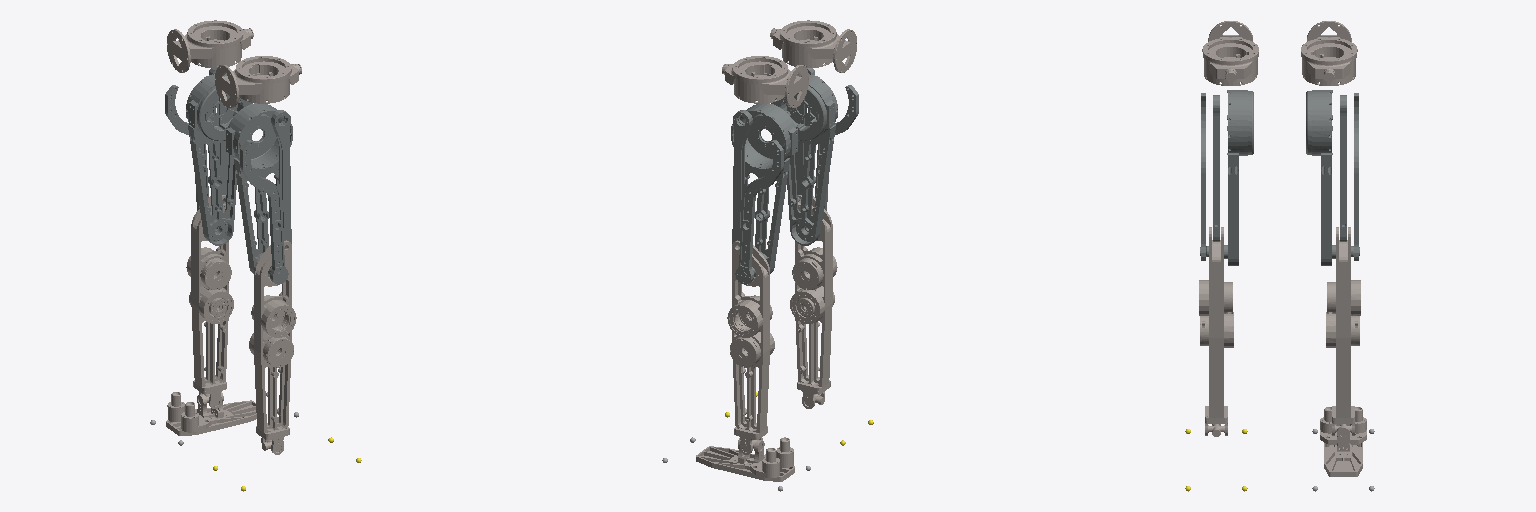
robot.urdf — biped_s4:
<?xml version="1.0" encoding="utf-8"?>
<!-- This URDF was automatically created by SolidWorks to URDF Exporter! Originally created by
Stephen Brawner ([email redacted]) 
     Commit Version: 1.6.0-4-g7f85cfe  Build Version: 1.6.7995.38578
     For more information, please see http://wiki.ros.org/sw_urdf_exporter -->
<robot name="biped_s4">
  <mujoco>
    <compiler meshdir="../meshes/" balanceinertia="true" discardvisual="false"/>
  </mujoco>
  <link name="dummy_link">
  </link>
  <link name="base_link">
    <inertial>
      <origin 
        xyz="0.00383143 0.0 0.18350901"
      	rpy="0 0 0" />
      <mass 
        value="26.40313"  />
      <inertia ixx="0.95851611" ixy="0.00026968" ixz="0.06381351" iyy="0.83635568" iyz="0.00069789" izz="0.29474019" />
    </inertial>
    <visual>
      <origin 
        xyz="0 0 0"
        rpy="0 0 0" />
      <geometry>
        <mesh filename="package://kuavo_assets/models/biped_s40/meshes/torso.STL" />
      </geometry>
      <material 
        name="">
        <color 
          rgba="1 1 1 1" />
      </material>
    </visual>
  </link>
  <joint name="dummy_to_base_link" type="fixed">
    <parent link="dummy_link"/>
    <child link="base_link"/>
    <origin rpy="0 0 0" xyz="0 0 0"/>
  </joint>

  <link name="leg_l1_link">
    <inertial>
      <origin 
        xyz="0.06614234 -0.00000119 -0.00862806"
        rpy="0 0 0" />
      <mass 
        value="1.53800733"
      />
      <inertia 
        ixx="0.00189451"
        ixy="-0.00000100"
        ixz="-0.00010566"
        iyy="0.00282649"
        iyz="-0.00000006"
        izz="0.00366404" />
    </inertial>
    <visual>
      <origin 
        xyz="0 0 0"
        rpy="0 0 0" />
      <geometry>
        <mesh filename="package://kuavo_assets/models/biped_s40/meshes/l_leg_roll.STL" />
      </geometry>
      <material 
        name="">
        <color 
          rgba="0.6902 0.65882 0.63922 1" />
      </material>
    </visual>
  </link>
  <joint 
    name="leg_l1_joint"
    type="revolute">
    <origin 
      xyz="-0.139 0.088087 -0.065549"
      rpy="0 0 0" />
    <parent 
      link="base_link" />
    <child 
      link="leg_l1_link" />
    <axis 
      xyz="1 0 0" />
    <limit
      lower="-0.31"
      upper="0.66"
      effort="85"
      velocity="14" />
  </joint>

  <link 
    name="leg_l2_link">
    <inertial>
      <origin 
        xyz="0.00000000 0.04610400 -0.13256100"
        rpy="0 0 0" />
      <mass 
        value="1.60096700"/>
      <inertia 
        ixx="0.00698359"
        ixy="0.00000237"
        ixz="-0.00000315"
        iyy="0.00460736"
        iyz="-0.00105143"
        izz="0.00482586" />
    </inertial>
    <visual>
      <origin 
        xyz="0 0 0"
        rpy="0 0 0" />
      <geometry>
        <mesh filename="package://kuavo_assets/models/biped_s40/meshes/l_leg_yaw.STL" />
      </geometry>
      <material 
        name="">
        <color rgba="0.65098 0.61961 0.58824 1" />
      </material>
    </visual>
  </link>
  <joint name="leg_l2_joint"
    type="revolute">
    <origin 
      xyz="0.1365 -0.0010866 -0.033901"
      rpy="0 0 0" />
    <parent 
      link="leg_l1_link" />
    <child 
      link="leg_l2_link" />
    <axis 
      xyz="0 0 1" />
    <limit
      lower="-0.52"
      upper="1.04"
      effort="60"
      velocity="14" />
  </joint>

  <link name="leg_l3_link">
    <inertial>
      <origin 
        xyz="-0.00644903 -0.09813560 -0.05357606"
        rpy="0 0 0" />
      <mass 
        value="2.46657100"/>
      <inertia 
        ixx="0.02261778"
        ixy="-0.00007906"
        ixz="-0.00029350"
        iyy="0.02315672"
        iyz="-0.00182962"
        izz="0.00415881" />
    </inertial>
    <visual>
      <origin 
        xyz="0 0 0"
        rpy="0 0 0" />
      <geometry>
        <mesh 
          filename="package://kuavo_assets/models/biped_s40/meshes/l_leg_pitch.STL" />
      </geometry>
      <material 
        name="">
        <color 
          rgba="0.52941 0.54902 0.54902 1" />
      </material>
    </visual>
  </link>
  <joint 
    name="leg_l3_joint"
    type="revolute">
    <origin 
      xyz="0 0.094 -0.09"
      rpy="0 0 0" />
    <parent 
      link="leg_l2_link" />
    <child 
      link="leg_l3_link" />
    <axis 
      xyz="0 1 0" />
    <limit
      lower="-1.83"
      upper="1.04"
      effort="85"
      velocity="14" />
  </joint>

  <link name="leg_l4_link">
    <inertial>
      <origin 
        xyz="0.00080045 -0.00004225 -0.12049699"
        rpy="0 0 0" />
      <mass 
        value="1.62911554" />
      <inertia 
        ixx="0.01343597"
        ixy="-0.00000234"
        ixz="0.00020391"
        iyy="0.01359234"
        iyz="0.00018311"
        izz="0.00092149" />
    </inertial>
    <visual>
      <origin 
        xyz="0 0 0"
        rpy="0 0 0" />
      <geometry>
        <mesh 
          filename="package://kuavo_assets/models/biped_s40/meshes/l_knee.STL" />
      </geometry>
      <material 
        name="">
        <color rgba="0.68627 0.65882 0.63922 1" />
      </material>
    </visual>
  </link>
  <joint name="leg_l4_joint"
    type="revolute">
    <origin 
      xyz="0.004136 -0.06635 -0.24997"
      rpy="0 0 0" />
    <parent 
      link="leg_l3_link" />
    <child 
      link="leg_l4_link" />
    <axis 
      xyz="0 1 0" />
    <limit
      lower="-0.0"
      upper="2.18"
      effort="85"
      velocity="14" />
  </joint>

  <link name="leg_l5_link">
    <inertial>
      <origin 
        xyz="0.00000000 -0.02099982 0"
        rpy="0 0 0" />
      <mass 
        value="0.05444454" />
      <inertia 
        ixx="0.00000411"
        ixy="0.00000000"
        ixz="0.00000000"
        iyy="0.00000411"
        iyz="0.00000000"
        izz="0.00000728" />
    </inertial>
    <visual>
      <origin 
        xyz="0 0 0"
        rpy="0 0 0" />
      <geometry>
        <mesh filename="package://kuavo_assets/models/biped_s40/meshes/l_foot_pitch.STL" />
      </geometry>
      <material name="">
        <color rgba="0.6902 0.65882 0.63922 1" />
      </material>
    </visual>
  </link>
  <joint 
    name="leg_l5_joint"
    type="revolute">
    <origin 
      xyz="0 -0.0022 -0.346"
      rpy="0 0 0" />
    <parent 
      link="leg_l4_link" />
    <child 
      link="leg_l5_link" />
    <axis 
      xyz="0 1 0" />
    <limit
      lower="-0.61"
      upper="0.52"
      effort="36"
      velocity="14" />
  </joint>

  <link name="leg_l6_link">
    <inertial>
      <origin 
        xyz="-0.03594832 0.00000978 -0.02713029"
        rpy="0 0 0" />
      <mass 
        value="0.46707519" />
      <inertia 
        ixx="0.00040711"
        ixy="0.00000016"
        ixz="-0.00023147"
        iyy="0.00127525"
        iyz="-0.00000006"
        izz="0.00135360" />
    </inertial>
    <visual>
      <origin 
        xyz="0 0 0"
        rpy="0 0 0" />
      <geometry>
        <mesh filename="package://kuavo_assets/models/biped_s40/meshes/l_foot_roll.STL" />
      </geometry>
      <material 
        name="">
        <color 
          rgba="0.6902 0.65882 0.63922 1" />
      </material>
    </visual>
    <visual>
      <origin rpy="0 0 0" xyz="-0.09 0.05 -0.0465" />
      <geometry>
        <sphere radius="0.005" />
      </geometry>
    </visual>
    <collision>
      <origin rpy="0 0 0" xyz="-0.09 0.05 -0.0465" />
      <geometry>
        <sphere radius="0.005" />
      </geometry>
    </collision>
    <visual>
      <origin rpy="0 0 0" xyz="-0.09 -0.05 -0.0465" />
      <geometry>
        <sphere radius="0.005" />
      </geometry>
    </visual>
    <collision>
      <origin rpy="0 0 0" xyz="-0.09 -0.05 -0.0465" />
      <geometry>
        <sphere radius="0.005" />
      </geometry>
    </collision>
    <visual>
      <origin rpy="0 0 0" xyz="0.15 0.05 -0.0465" />
      <geometry>
        <sphere radius="0.005" />
      </geometry>
    </visual>
    <collision>
      <origin rpy="0 0 0" xyz="0.15 0.05 -0.0465" />
      <geometry>
        <sphere radius="0.005" />
      </geometry>
    </collision>
    <visual>
      <origin rpy="0 0 0" xyz="0.15 -0.05 -0.0465" />
      <geometry>
        <sphere radius="0.005" />
      </geometry>
    </visual>
    <collision>
      <origin rpy="0 0 0" xyz="0.15 -0.05 -0.0465" />
      <geometry>
        <sphere radius="0.005" />
      </geometry>
    </collision>
  </link>
  <joint 
    name="leg_l6_joint"
    type="revolute">
    <origin 
      xyz="0 0 0"
      rpy="0 0 0" />
    <parent 
      link="leg_l5_link" />
    <child 
      link="leg_l6_link" />
    <axis 
      xyz="1 0 0" />
    <limit
      lower="-0.61"
      upper="0.52"
      effort="36"
      velocity="14" />
  </joint>

  <link 
    name="ll_foot_toe">
    <collision>
      <origin 
        rpy="0 0 0"
        xyz="0 0 0"/>
      <geometry>
        <sphere radius="0.005"/>
      </geometry>
    </collision>
  </link>
  <joint name="ll_foot_toe_joint"
    type="fixed">
    <origin 
      xyz="0.15 0.05 -0.0465"
      rpy="0 0 0" />
    <parent 
      link="leg_l6_link" />
    <child 
      link="ll_foot_toe" />
  </joint>
  <link name="ll_foot_heel">
    <collision>
      <origin 
        rpy="0 0 0"
        xyz="0 0 0"/>
      <geometry>
        <sphere radius="0.005"/>
      </geometry>
    </collision>
  </link>
  <joint 
    name="ll_foot_heel_joint"
    type="fixed">
    <origin 
      xyz="-0.09 0.05 -0.0465"
      rpy="0 0 0" />
    <parent link="leg_l6_link" />
    <child link="ll_foot_heel" />
  </joint>

  <link name="lr_foot_toe">
    <collision>
      <origin 
        rpy="0 0 0"
        xyz="0 0 0"/>
      <geometry>
        <sphere radius="0.005"/>
      </geometry>
    </collision>
  </link>
  <joint 
    name="lr_foot_toe_joint"
    type="fixed">
    <origin 
      xyz="0.15 -0.05 -0.0465"
      rpy="0 0 0" />
    <parent 
      link="leg_l6_link" />
    <child 
      link="lr_foot_toe" />
  </joint>
  <link 
    name="lr_foot_heel">
    <collision>
      <origin 
        rpy="0 0 0"
        xyz="0 0 0"/>
      <geometry>
        <sphere radius="0.005"/>
      </geometry>
    </collision>
  </link>
  <joint 
    name="lr_foot_heel_joint"
    type="fixed">
    <origin 
      xyz="-0.09 -0.05 -0.0465"
      rpy="0 0 0" />
    <parent 
      link="leg_l6_link" />
    <child 
      link="lr_foot_heel" />
  </joint>
  <link name="l_foot_toe">
    <collision>
      <origin 
        rpy="0 0 0"
        xyz="0 0 0"/>
      <geometry>
        <sphere radius="0.005"/>
      </geometry>
    </collision>
  </link>
  <joint 
    name="l_foot_toe_joint"
    type="fixed">
    <origin 
      xyz="0.15 0.0 -0.0465"
      rpy="0 0 0" />
    <parent 
      link="leg_l6_link" />
    <child 
      link="l_foot_toe" />
  </joint>
  <link name="l_foot_heel">
    <collision>
      <origin 
        rpy="0 0 0"
        xyz="0 0 0"/>
      <geometry>
        <sphere radius="0.005"/>
      </geometry>
    </collision>
  </link>
  <joint 
    name="l_foot_heel_joint"
    type="fixed">
    <origin xyz="-0.09 0.0 -0.0465"
      rpy="0 0 0" />
    <parent 
      link="leg_l6_link" />
    <child 
      link="l_foot_heel" />
  </joint>

  <link 
    name="leg_r1_link">
    <inertial>
      <origin 
        xyz="0.06614233 0.00000119 -0.00862806"
        rpy="0 0 0" />
      <mass 
        value="1.53800714" />
      <inertia 
        ixx="0.00189451"
        ixy="0.00000100"
        ixz="-0.00010566"
        iyy="0.00282648"
        iyz="0.00000006"
        izz="0.00366404" />
    </inertial>
    <visual>
      <origin 
        xyz="0 0 0"
        rpy="0 0 0" />
      <geometry>
        <mesh filename="package://kuavo_assets/models/biped_s40/meshes/r_leg_roll.STL" />
      </geometry>
      <material 
        name="">
        <color rgba="0.6902 0.65882 0.63922 1" />
      </material>
    </visual>
  </link>
  <joint name="leg_r1_joint"
    type="revolute">
    <origin 
      xyz="-0.139 -0.088087 -0.065549"
      rpy="0 0 0" />
    <parent 
      link="base_link" />
    <child 
      link="leg_r1_link" />
    <axis 
      xyz="1 0 0" />
    <limit
      lower="-0.6629"
      upper="0.314"
      effort="85"
      velocity="14" />
  </joint>

  <link name="leg_r2_link">
    <inertial>
      <origin 
        xyz="0.00004661 -0.04610359 -0.13257364"
        rpy="0 0 0" />
      <mass 
        value="1.60096695" />
      <inertia 
        ixx="0.00520439"
        ixy="-0.00000302"
        ixz="-0.00000372"
        iyy="0.00397740"
        iyz="0.00063198"
        izz="0.00391648" />
    </inertial>
    <visual>
      <origin 
        xyz="0 0 0"
        rpy="0 0 0" />
      <geometry>
        <mesh filename="package://kuavo_assets/models/biped_s40/meshes/r_leg_yaw.STL" />
      </geometry>
      <material 
        name="">
        <color 
          rgba="0.650980392156863 0.619607843137255 0.588235294117647 1" />
      </material>
    </visual>
  </link>
  <joint 
    name="leg_r2_joint"
    type="revolute">
    <origin 
      xyz="0.1365 0.0010866 -0.033901"
      rpy="0 0 0" />
    <parent 
      link="leg_r1_link" />
    <child 
      link="leg_r2_link" />
    <axis 
      xyz="0 0 1" />
    <limit
      lower="-1.04"
      upper="0.52"
      effort="60"
      velocity="14" />
  </joint>

  <link name="leg_r3_link">
    <inertial>
      <origin 
        xyz="-0.00644903 0.09813560 -0.05357606"
        rpy="0 0 0" />
      <mass 
        value="2.46657141"/>
      <inertia 
        ixx="0.02254838"
        ixy="0.00023457"
        ixz="0.00013808"
        iyy="0.02319666"
        iyz="0.00259984"
        izz="0.00432904" />
    </inertial>
    <visual>
      <origin 
        xyz="0 0 0"
        rpy="0 0 0" />
      <geometry>
        <mesh filename="package://kuavo_assets/models/biped_s40/meshes/r_leg_pitch.STL" />
      </geometry>
      <material 
        name="">
        <color 
          rgba="0.529411764705882 0.549019607843137 0.549019607843137 1" />
      </material>
    </visual>
  </link>
  <joint name="leg_r3_joint"
    type="revolute">
    <origin 
      xyz="0 -0.094 -0.09"
      rpy="0 0 0" />
    <parent 
      link="leg_r2_link" />
    <child 
      link="leg_r3_link" />
    <axis xyz="0 1 0" />
    <limit
      lower="-1.83"
      upper="1.04"
      effort="85"
      velocity="14" />
  </joint>

  <link name="leg_r4_link">
    <inertial>
      <origin 
        xyz="0.00080045 0.00004225 -0.12049699"
        rpy="0 0 0" />
      <mass 
        value="1.62911540" />
      <inertia 
        ixx="0.01343597"
        ixy="0.00000234"
        ixz="0.00020391"
        iyy="0.01359234"
        iyz="-0.00018311"
        izz="0.00092149" />
    </inertial>
    <visual>
      <origin 
        xyz="0 0 0"
        rpy="0 0 0" />
      <geometry>
        <mesh 
          filename="package://kuavo_assets/models/biped_s40/meshes/r_knee.STL" />
      </geometry>
      <material 
        name="">
        <color 
          rgba="0.686274509803922 0.658823529411765 0.63921568627451 1" />
      </material>
    </visual>
  </link>
  <joint 
    name="leg_r4_joint"
    type="revolute">
    <origin 
      xyz="0.004136 0.06635 -0.24997"
      rpy="0 0 0" />
    <parent 
      link="leg_r3_link" />
    <child 
      link="leg_r4_link" />
    <axis 
      xyz="0 1 0" />
    <limit
      lower="-0.0"
      upper="2.18"
      effort="85"
      velocity="14" />
  </joint>

  <link name="leg_r5_link">
    <inertial>
      <origin 
        xyz="0 0.02100018 0"
        rpy="0 0 0" />
      <mass 
        value="0.05444454"/>
      <inertia 
        ixx="0.00000411"
        ixy="0"
        ixz="0"
        iyy="0.00000411"
        iyz="0"
        izz="0.00000728"/>
    </inertial>
    <visual>
      <origin 
        xyz="0 0 0"
        rpy="0 0 0" />
      <geometry>
        <mesh 
          filename="package://kuavo_assets/models/biped_s40/meshes/r_foot_pitch.STL" />
      </geometry>
      <material 
        name="">
        <color rgba="0.690196078431373 0.658823529411765 0.63921568627451 1" />
      </material>
    </visual>
  </link>
  <joint name="leg_r5_joint"
    type="revolute">
    <origin 
      xyz="0 0.0022 -0.346"
      rpy="0 0 0" />
    <parent 
      link="leg_r4_link" />
    <child 
      link="leg_r5_link" />
    <axis 
      xyz="0 1 0" />
    <limit
      lower="-0.61"
      upper="0.52"
      effort="36"
      velocity="14" />
  </joint>

  <link name="leg_r6_link">
    <inertial>
      <origin 
        xyz="-0.03594837 -0.00000972 -0.02713025"
        rpy="0 0 0" />
      <mass 
        value="0.46707428" />
      <inertia 
        ixx="0.00040710"
        ixy="-0.00000016"
        ixz="-0.00023147"
        iyy="0.00127525"
        iyz="0.00000006"
        izz="0.00135359" />
    </inertial>
    <visual>
      <origin 
        xyz="0 0 0"
        rpy="0 0 0" />
      <geometry>
        <mesh 
          filename="package://kuavo_assets/models/biped_s40/meshes/r_foot_roll.STL" />
      </geometry>
      <material 
        name="">
        <color 
          rgba="0.690196078431373 0.658823529411765 0.63921568627451 1" />
      </material>
    </visual>
    <visual>
      <origin rpy="0 0 0" xyz="-0.09 0.05 -0.0465" />
      <geometry>
        <sphere radius="0.005" />
      </geometry>
    </visual>
    <collision>
      <origin rpy="0 0 0" xyz="-0.09 0.05 -0.0465" />
      <geometry>
        <sphere radius="0.005" />
      </geometry>
    </collision>
    <visual>
      <origin rpy="0 0 0" xyz="-0.09 -0.05 -0.0465" />
      <geometry>
        <sphere radius="0.005" />
      </geometry>
    </visual>
    <collision>
      <origin rpy="0 0 0" xyz="-0.09 -0.05 -0.0465" />
      <geometry>
        <sphere radius="0.005" />
      </geometry>
    </collision>

    <visual>
      <origin rpy="0 0 0" xyz="0.15 0.05 -0.0465" />
      <geometry>
        <sphere radius="0.005" />
      </geometry>
    </visual>
    <collision>
      <origin rpy="0 0 0" xyz="0.15 0.05 -0.0465" />
      <geometry>
        <sphere radius="0.005" />
      </geometry>
    </collision>
    <visual>
      <origin rpy="0 0 0" xyz="0.15 -0.05 -0.0465" />
      <geometry>
        <sphere radius="0.005" />
      </geometry>
    </visual>
    <collision>
      <origin rpy="0 0 0" xyz="0.15 -0.05 -0.0465" />
      <geometry>
        <sphere radius="0.005" />
      </geometry>
    </collision>
  </link>
  <joint 
    name="leg_r6_joint"
    type="revolute">
    <origin 
      xyz="0 0 0"
      rpy="0 0 0" />
    <parent 
      link="leg_r5_link" />
    <child 
      link="leg_r6_link" />
    <axis 
      xyz="1 0 0" />
    <limit
      lower="-0.52"
      upper="0.61"
      effort="36"
      velocity="14" />
  </joint>

  <link name="rl_foot_toe">
    <collision>
      <origin 
        rpy="0 0 0"
        xyz="0 0 0"/>
      <geometry>
        <sphere radius="0.005"/>
      </geometry>
    </collision>
  </link>
  <joint 
    name="rl_foot_toe_joint"
    type="fixed">
    <origin 
      xyz="0.15 0.05 -0.0465"
      rpy="0 0 0" />
    <parent 
      link="leg_r6_link" />
    <child 
      link="rl_foot_toe" />
  </joint>
  <link 
    name="rl_foot_heel">
    <collision>
      <origin 
        rpy="0 0 0"
        xyz="0 0 0"/>
      <geometry>
        <sphere radius="0.005"/>
      </geometry>
    </collision>
  </link>
  <joint 
    name="rl_foot_heel_joint"
    type="fixed">
    <origin 
      xyz="-0.09 0.05 -0.0465"
      rpy="0 0 0" />
    <parent 
      link="leg_r6_link" />
    <child 
      link="rl_foot_heel" />
  </joint>

  <link 
    name="rr_foot_toe">
    <collision>
      <origin 
        rpy="0 0 0"
        xyz="0 0 0"/>
      <geometry>
        <sphere radius="0.005"/>
      </geometry>
    </collision>
  </link>
  <joint 
    name="rr_foot_toe_joint"
    type="fixed">
    <origin 
      xyz="0.15 -0.05 -0.0465"
      rpy="0 0 0" />
    <parent 
      link="leg_r6_link" />
    <child 
      link="rr_foot_toe" />
  </joint>
  <link 
    name="rr_foot_heel">
    <collision>
      <origin 
        rpy="0 0 0"
        xyz="0 0 0"/>
      <geometry>
        <sphere radius="0.005"/>
      </geometry>
    </collision>
  </link>
  <joint 
    name="rr_foot_heel_joint"
    type="fixed">
    <origin 
      xyz="-0.09 -0.05 -0.0465"
      rpy="0 0 0" />
    <parent 
      link="leg_r6_link" />
    <child 
      link="rr_foot_heel" />
  </joint>
  <link 
    name="r_foot_toe">
    <collision>
      <origin 
        rpy="0 0 0"
        xyz="0 0 0"/>
      <geometry>
        <sphere radius="0.005"/>
      </geometry>
    </collision>
  </link>
  <joint 
    name="r_foot_toe_joint"
    type="fixed">
    <origin 
      xyz="0.15 -0.0 -0.0465"
      rpy="0 0 0" />
    <parent 
      link="leg_r6_link" />
    <child 
      link="r_foot_toe" />
  </joint>
  <link 
    name="r_foot_heel">
    <collision>
      <origin 
        rpy="0 0 0"
        xyz="0 0 0"/>
      <geometry>
        <sphere radius="0.005"/>
      </geometry>
    </collision>
  </link>
  <joint 
    name="r_foot_heel_joint"
    type="fixed">
    <origin 
      xyz="-0.09 -0.0 -0.0465"
      rpy="0 0 0" />
    <parent 
      link="leg_r6_link" />
    <child 
      link="r_foot_heel" />
  </joint>

  <link
    name="zarm_l1_link">
    <inertial>
      <origin
        xyz="0.0146835191418715 -0.0166604103758634 -6.82857133371129E-05"
        rpy="0 0 0" />
      <mass
        value="0.794" />
      <inertia
        ixx="0.0002674432873971"
        ixy="-2.5654089149164E-05"
        ixz="-1.72966133127553E-07"
        iyy="0.000125796784291983"
        iyz="-1.66717296343013E-06"
        izz="0.000196186976742156" />
    </inertial>
    <visual>
      <origin
        xyz="0 0 0"
        rpy="0 0 0" />
      <geometry>
        <mesh
          filename="package://kuavo_assets/models/biped_s40/meshes/l_arm_pitch.STL" />
      </geometry>
      <material
        name="">
        <color
          rgba="1 1 1 1" />
      </material>
    </visual>    
  </link>
  <joint
    name="zarm_l1_joint"
    type="revolute">
    <origin
      xyz="-0.0175475823124921 0.254700000000031 0.324500000000024"
      rpy="0 0 0" />
    <parent
      link="base_link" />
    <child
      link="zarm_l1_link" />
    <axis
      xyz="0 1 0" />
    <limit 
      lower="-2.0933" 
      upper="0.5233" 
      effort="60" 
      velocity="14" />
    <dynamic
      damping="0.2" />
  </joint>


  <link
    name="zarm_r1_link">
    <inertial>
      <origin
        xyz="0.0146743511434554 0.0168298008224051 -8.16711977456031E-05"
        rpy="0 0 0" />
      <mass
        value="0.794" />
      <inertia
        ixx="0.000267364314112701"
        ixy="2.58822573731612E-05"
        ixz="-1.74450019197634E-07"
        iyy="0.000125724274127356"
        iyz="1.71810516637517E-06"
        izz="0.000196179895851995" />
    </inertial>
    <visual>
      <origin
        xyz="0 0 0"
        rpy="0 0 0" />
      <geometry>
        <mesh
          filename="package://kuavo_assets/models/biped_s40/meshes/r_arm_pitch.STL" />
      </geometry>
      <material
        name="">
        <color
          rgba="1 1 1 1" />
      </material>
    </visual>   
  </link>
  <joint
    name="zarm_r1_joint"
    type="revolute">
    <origin
      xyz="-0.0175475823119764 -0.254700000000003 0.324500000000024"
      rpy="0 0 0" />
    <parent
      link="base_link" />
    <child
      link="zarm_r1_link" />
    <axis
      xyz="0 1 0" />
    <limit 
      lower="-2.0933" 
      upper="0.5233" 
      effort="60" 
      velocity="14" />
    <dynamic
      damping="0.2" />
  </joint>
  
</robot>

--- Render facts (derived) ---
3 views of the same robot in one strip: view 1: azimuth 30°, elevation 25°; view 2: azimuth 150°, elevation 25°; view 3: azimuth 270°, elevation 25° (orthographic).
Model biped_s4 with 28 links and 27 joints (14 revolute, 13 fixed), rooted at dummy_link, posed all joints at 0.
Visible links, largest first — view 1: leg_r3_link, leg_l3_link, leg_r4_link, leg_l4_link, leg_r1_link, leg_l1_link, leg_l6_link; view 2: leg_l3_link, leg_r3_link, leg_l4_link, leg_r4_link, leg_l1_link, leg_r1_link, leg_l6_link; view 3: leg_l3_link, leg_r3_link, leg_l4_link, leg_r4_link, leg_l1_link, leg_r1_link, leg_l6_link.
Link boxes in pixels (x1,y1,x2,y2): leg_r3_link: (226,103,292,284); leg_l3_link: (165,65,252,245); leg_r4_link: (249,240,296,454); leg_l4_link: (186,195,233,408); leg_r1_link: (215,56,301,107); leg_l1_link: (167,20,253,72); leg_l6_link: (150,392,298,445); leg_l3_link: (731,103,797,284); leg_r3_link: (771,65,858,245); leg_l4_link: (727,240,774,454); leg_r4_link: (790,195,837,408); leg_l1_link: (722,56,808,107); leg_r1_link: (770,20,856,72); leg_l6_link: (662,437,810,491); leg_l3_link: (1306,90,1359,265); leg_r3_link: (1200,90,1253,265); leg_l4_link: (1326,227,1360,435); leg_r4_link: (1199,227,1233,435); leg_l1_link: (1301,21,1357,85); leg_r1_link: (1202,21,1258,85); leg_l6_link: (1312,407,1374,491).
Bounding box of the posed robot: 0.25 × 0.3349 × 0.8109 m (x, y, z).
Meshes: 15 distinct files referenced, 9 mesh visuals loaded (9 binary STL); not drawn: 6 (reference not matched to a file when rendering).
